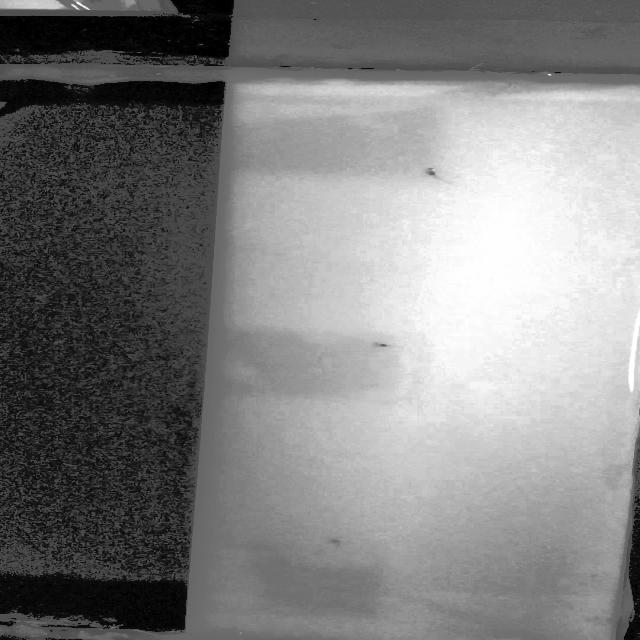shrimp: (367, 336, 410, 354), (427, 167, 458, 187), (322, 536, 345, 552)
